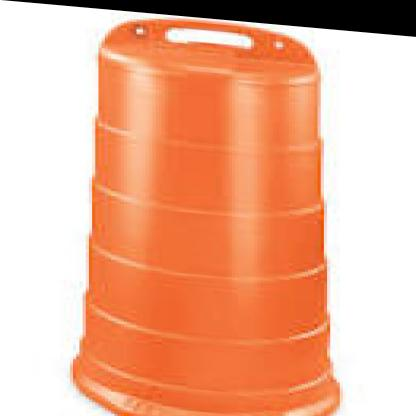obstacle: (76, 25, 350, 409)
